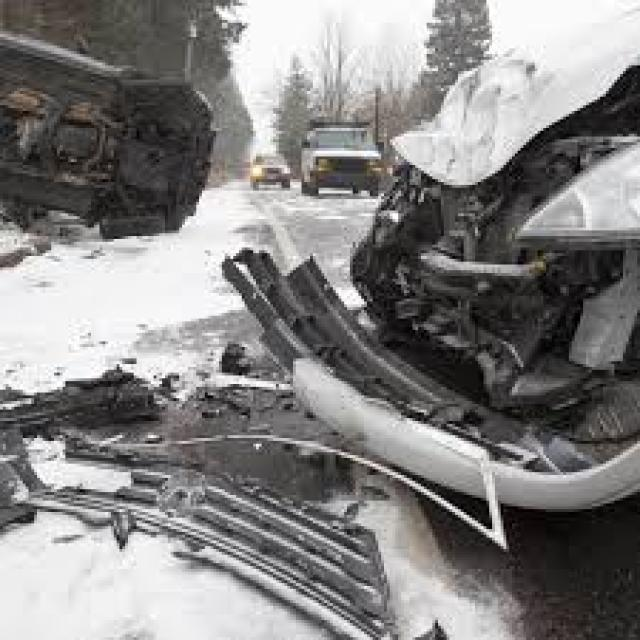Accident: (219, 12, 640, 510), (2, 22, 218, 244)
